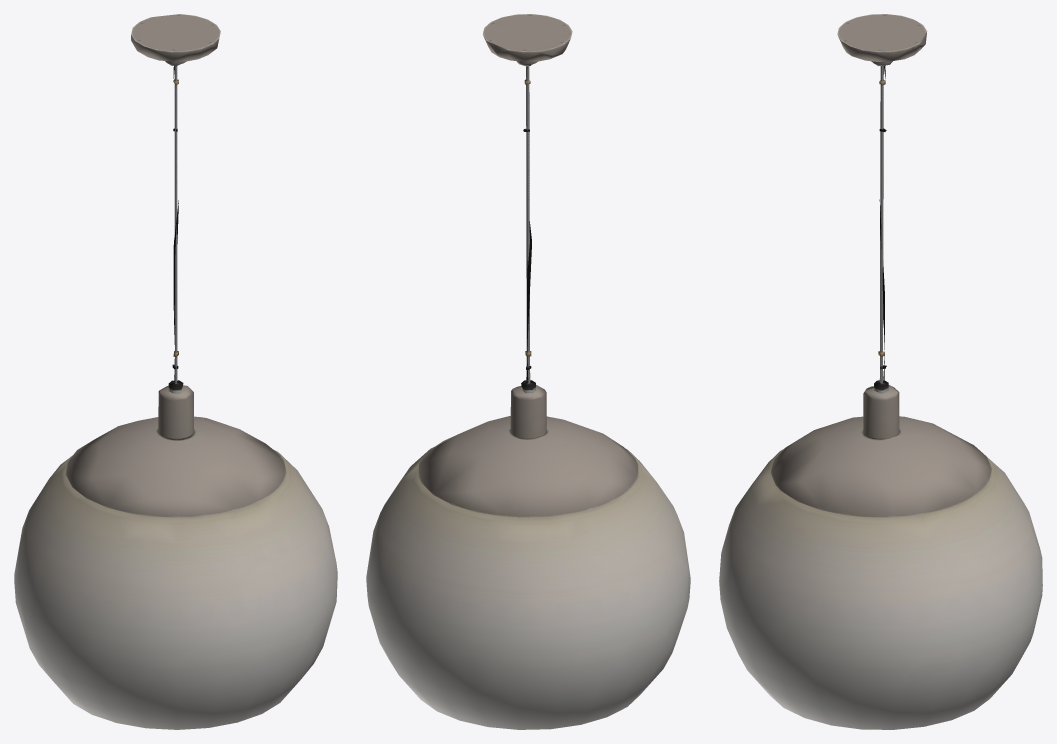
Rendered from modern_ceiling_lamp_01.glb.
The picture shows the model from 3 angles, left to right: view 1: azimuth 30°, elevation 25°; view 2: azimuth 150°, elevation 25°; view 3: azimuth 270°, elevation 25°; orthographic projection.
Visible parts, largest first — view 1: modern_ceiling_lamp_01; view 2: modern_ceiling_lamp_01; view 3: modern_ceiling_lamp_01.
Part boxes in pixels (left/top/right/bottom): modern_ceiling_lamp_01: left=14, top=14, right=337, bottom=729; modern_ceiling_lamp_01: left=366, top=14, right=690, bottom=729; modern_ceiling_lamp_01: left=719, top=14, right=1042, bottom=729.
Bounding box in the file's own units: 0.4316 × 0.9512 × 0.4306.
2 materials, 2 textured.
